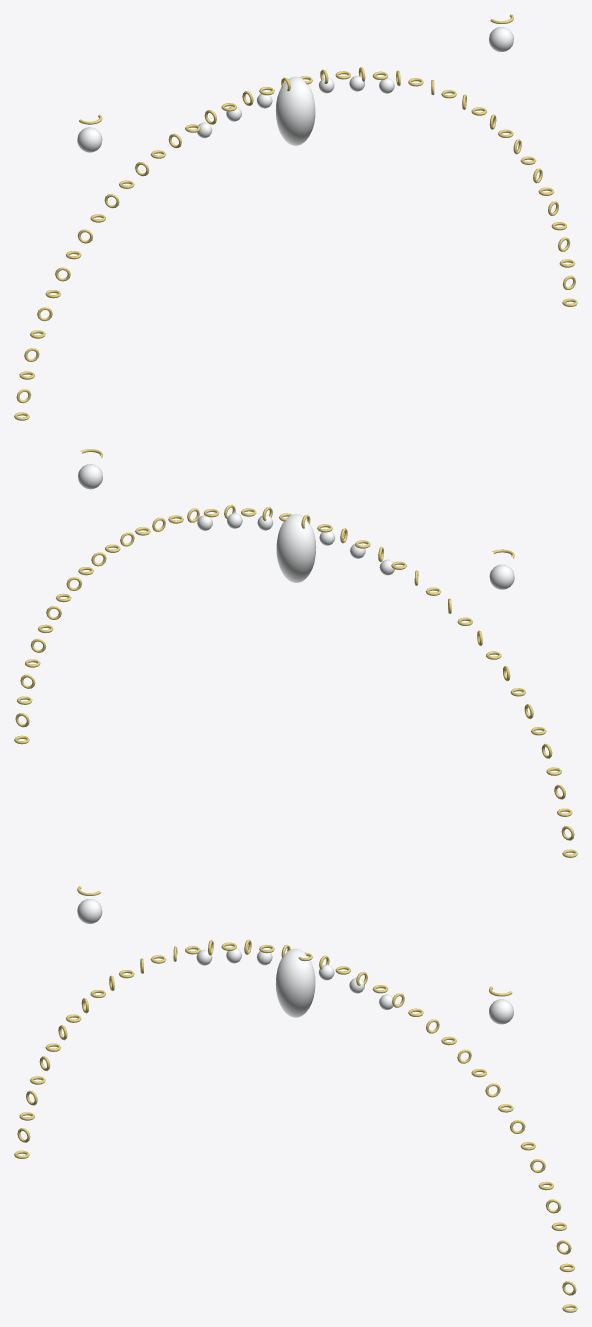
The model's file is luxury-set.glb.
3 renders of one model, top to bottom at view 1: azimuth 30°, elevation 25°; view 2: azimuth 150°, elevation 25°; view 3: azimuth 330°, elevation 25°, orthographic.
Parts seen in each view (by area): view 1: set_chain_metal, set_diamond_stone; view 2: set_chain_metal, set_diamond_stone; view 3: set_chain_metal, set_diamond_stone.
Part boxes in pixels (bbox=[...]): set_chain_metal: bbox=[14, 14, 577, 420]; set_diamond_stone: bbox=[77, 27, 513, 152]; set_chain_metal: bbox=[14, 449, 577, 857]; set_diamond_stone: bbox=[78, 464, 514, 589]; set_chain_metal: bbox=[14, 886, 577, 1312]; set_diamond_stone: bbox=[77, 899, 513, 1024].
Size of the model in its own units: 4.1 by 2.12 by 0.252.
